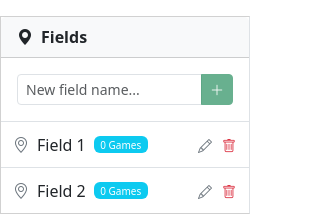
Test: FieldSidebar › Editing Fields › should show edit input when rename button is clicked
(page scrolled)
Click the button titled "Rename field" in the row of "Field 1" at (205, 146), box [197, 134, 213, 157]
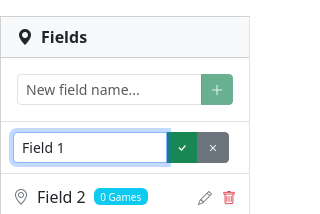
Now the field showing "Field 1" is shown, box [13, 132, 167, 163]
